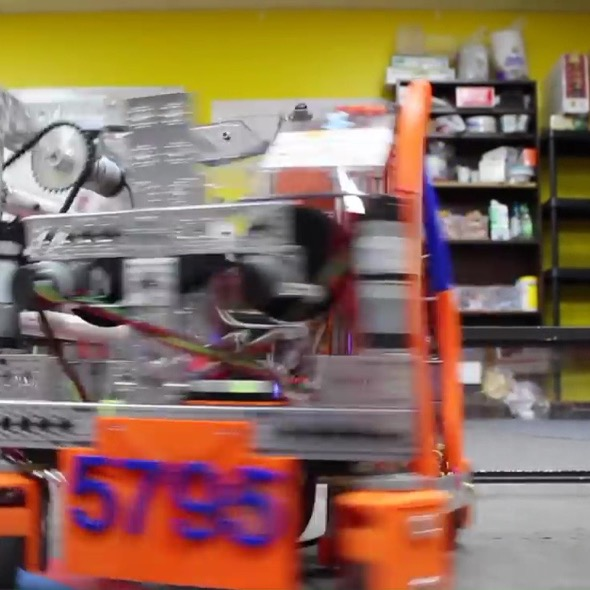robot: (2, 68, 476, 587)
